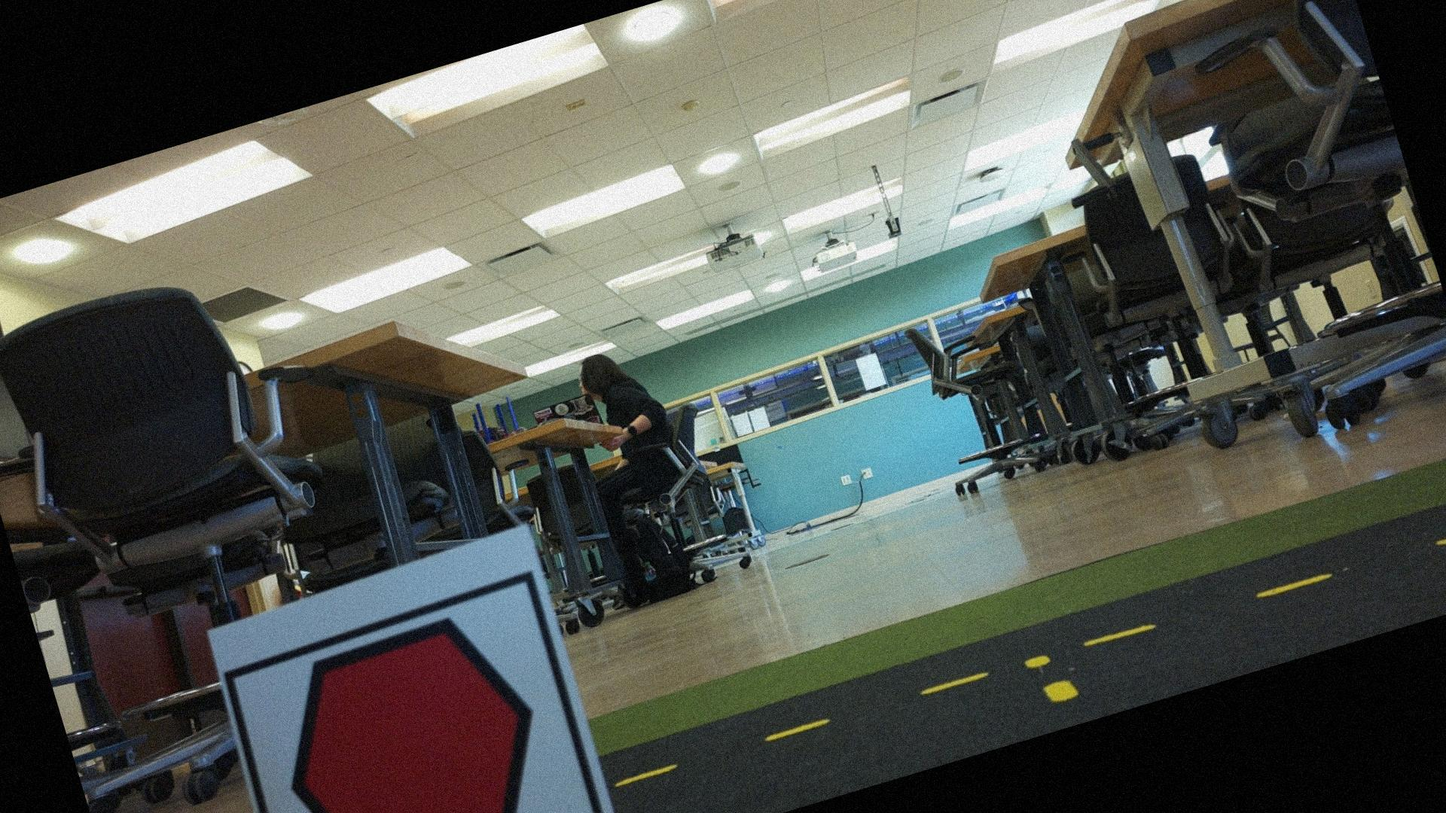stop: (244, 589, 584, 812)
yellowline: (620, 510, 1445, 792), (1018, 643, 1082, 714)
